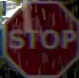Stop: (2, 0, 78, 77)
